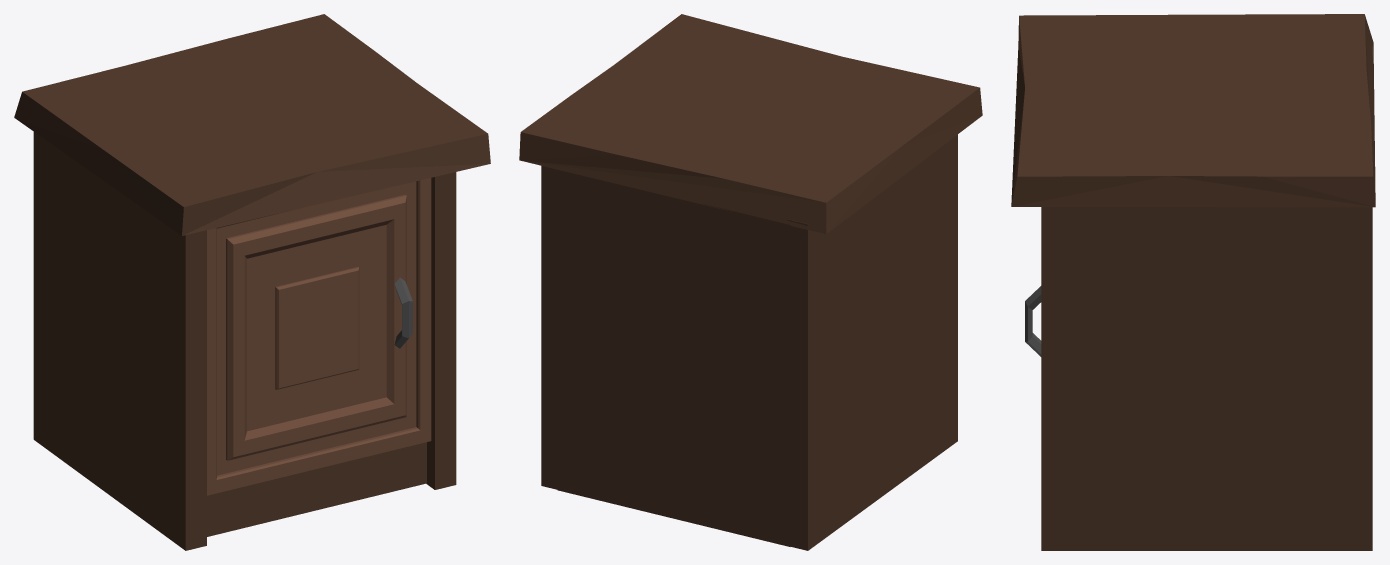
File: Шкаф2.fbx
The picture shows the model from 3 angles, left to right: view 1: azimuth 30°, elevation 25°; view 2: azimuth 150°, elevation 25°; view 3: azimuth 270°, elevation 25°; orthographic projection. The views are drawn at different scales.
Parts seen in each view (by area): view 1: Cube.009, полка1.001; view 2: Cube.009, Cube.013; view 3: Cube.009, полка1.001.
Part boxes in pixels (<box>): Cube.009: <box>14,14,490,550</box>; полка1.001: <box>207,178,431,495</box>; Cube.009: <box>519,14,982,550</box>; Cube.013: <box>557,169,790,546</box>; Cube.009: <box>1011,14,1375,550</box>; полка1.001: <box>1025,286,1041,356</box>.
Size of the model in its own units: 218 by 238 by 204.
